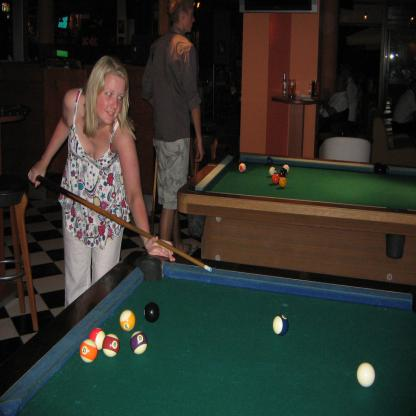Ball: (78, 338, 98, 364), (356, 362, 376, 387), (270, 164, 290, 187), (102, 334, 121, 358), (88, 326, 106, 351), (130, 331, 148, 354), (142, 303, 160, 323), (119, 309, 136, 330), (272, 313, 288, 335), (237, 162, 246, 173), (266, 156, 274, 168)
